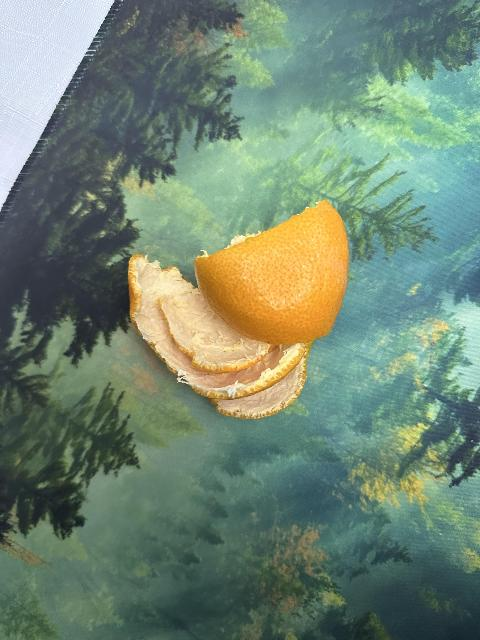Organik: (113, 260, 325, 414), (197, 195, 348, 341)
